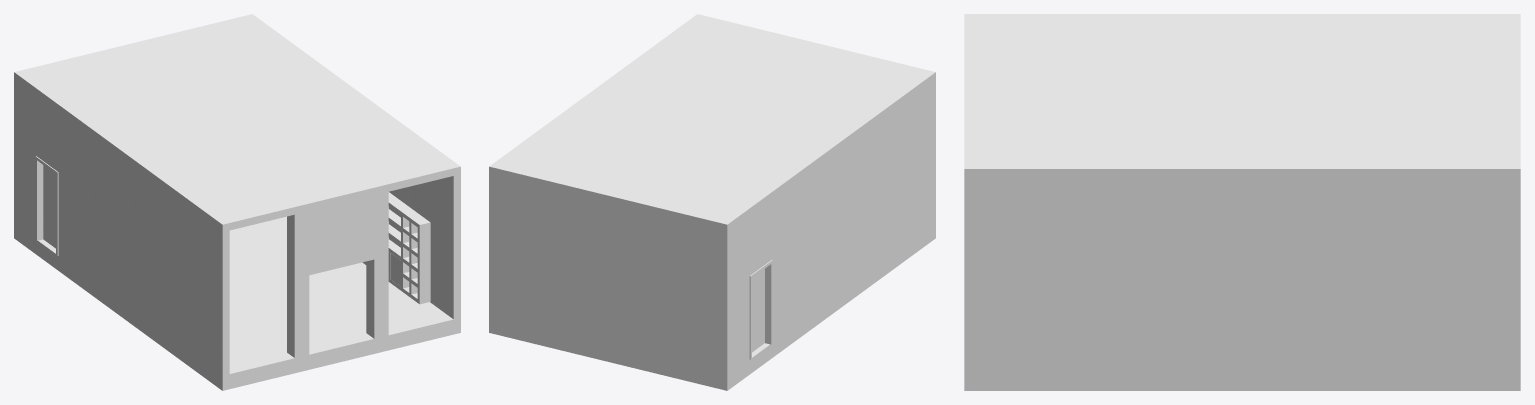
Rendered from Pandora-shop.DAE.
3 renders of one model, left to right at view 1: azimuth 30°, elevation 25°; view 2: azimuth 150°, elevation 25°; view 3: azimuth 270°, elevation 25°, orthographic. The views are drawn at different scales.
Parts seen in each view (by area): view 1: Floor Generic Floor - 200 [323099], Basic Wall Generic - 200mm [368621], Floor Generic Floor - 400mm [322617], Basic Wall Generic - 200mm [368647], Basic Wall Generic - 200mm [324268], Retail_Unit_12387 Retail_Unit_12387 [372688], Basic Wall Generic - 375mm [368629], Basic Wall Generic - 375mm [368655], M_Single-Flush 0915 x 2134mm [371596], Basic Wall Generic - 200mm [322698]; view 2: Floor Generic Floor - 200 [323099], Basic Wall Generic - 200mm [322698], Basic Wall Generic - 200mm [368621], Floor Generic Floor - 400mm [322617], M_Single-Flush 0915 x 2134mm [371596]; view 3: Basic Wall Generic - 200mm [368647], Floor Generic Floor - 200 [323099], Floor Generic Floor - 400mm [322617], Basic Wall Generic - 200mm [322698].
Part boxes in pixels (bbox=[...]): Floor Generic Floor - 200 [323099]: bbox=[14, 14, 460, 232]; Basic Wall Generic - 200mm [368621]: bbox=[18, 83, 229, 375]; Floor Generic Floor - 400mm [322617]: bbox=[14, 216, 460, 390]; Basic Wall Generic - 200mm [368647]: bbox=[389, 174, 460, 319]; Basic Wall Generic - 200mm [324268]: bbox=[309, 195, 374, 275]; Retail_Unit_12387 Retail_Unit_12387 [372688]: bbox=[362, 192, 430, 304]; Basic Wall Generic - 375mm [368629]: bbox=[287, 211, 309, 357]; Basic Wall Generic - 375mm [368655]: bbox=[366, 192, 388, 338]; M_Single-Flush 0915 x 2134mm [371596]: bbox=[35, 156, 58, 255]; Basic Wall Generic - 200mm [322698]: bbox=[14, 80, 18, 225]; Floor Generic Floor - 200 [323099]: bbox=[489, 14, 935, 232]; Basic Wall Generic - 200mm [322698]: bbox=[489, 174, 731, 375]; Basic Wall Generic - 200mm [368621]: bbox=[731, 80, 935, 372]; Floor Generic Floor - 400mm [322617]: bbox=[489, 223, 935, 390]; M_Single-Flush 0915 x 2134mm [371596]: bbox=[749, 260, 772, 359]; Basic Wall Generic - 200mm [368647]: bbox=[964, 179, 1509, 370]; Floor Generic Floor - 200 [323099]: bbox=[964, 14, 1520, 179]; Floor Generic Floor - 400mm [322617]: bbox=[964, 370, 1520, 390]; Basic Wall Generic - 200mm [322698]: bbox=[1509, 179, 1520, 370].
Size of the model in its own units: 662 by 440 by 1000.
